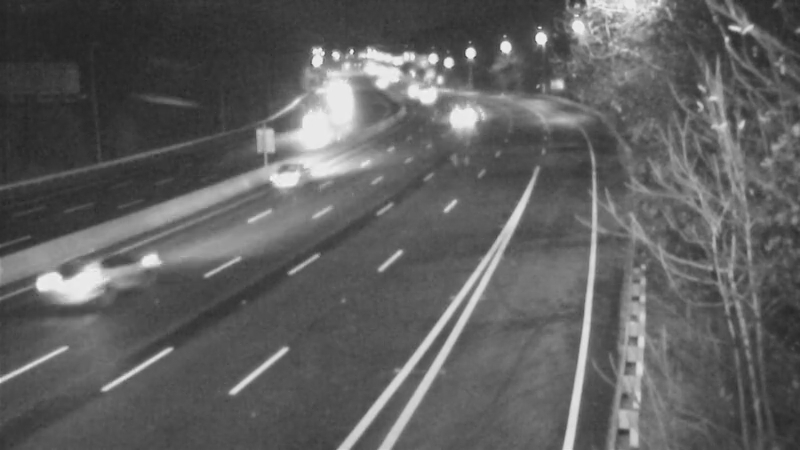vehicle: (248, 138, 328, 218), (36, 243, 116, 323), (355, 54, 405, 104), (386, 65, 436, 115), (401, 69, 451, 119), (431, 87, 481, 137), (293, 107, 343, 157)
